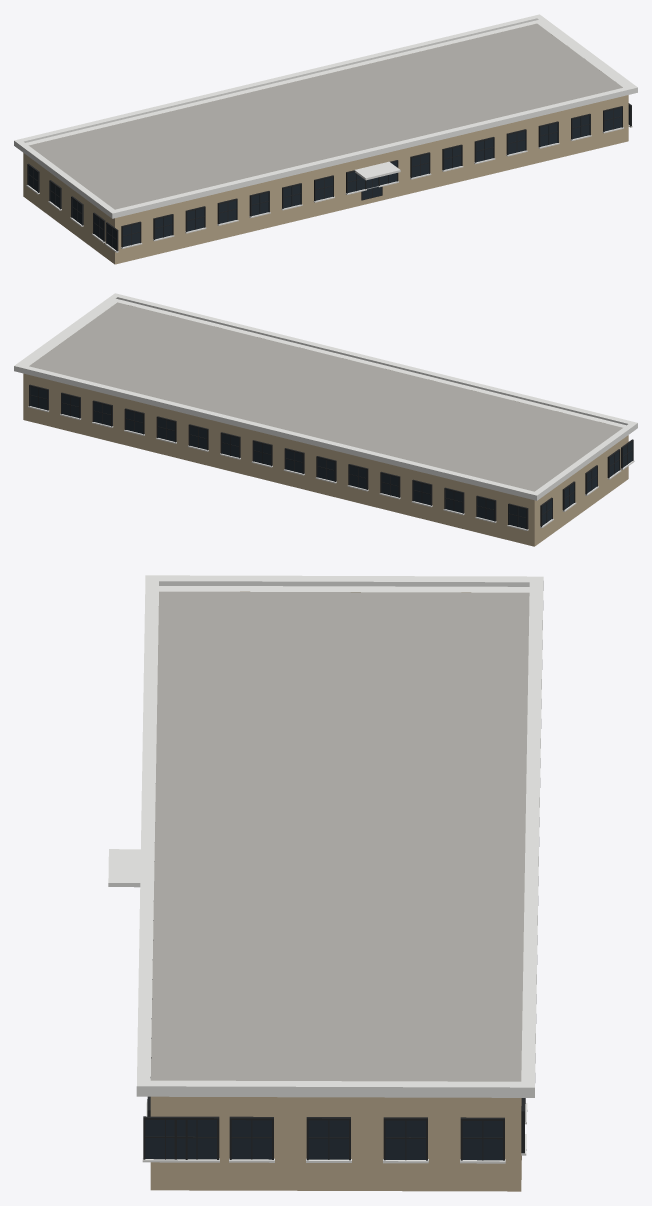
File: modular_lab_2.glb
3 renders of one model, top to bottom at view 1: azimuth 30°, elevation 25°; view 2: azimuth 150°, elevation 25°; view 3: azimuth 270°, elevation 25°, orthographic. The views are drawn at different scales.
Parts seen in each view (by area): view 1: modular_lab_2_Roof_Membrane, modular_lab_2_Wall_tan, modular_lab_2_Trim_White, modular_lab_2_Glass_dark, modular_lab_2_Frame_Dark; view 2: modular_lab_2_Roof_Membrane, modular_lab_2_Wall_tan, modular_lab_2_Trim_White, modular_lab_2_Glass_dark, modular_lab_2_Frame_Dark; view 3: modular_lab_2_Roof_Membrane, modular_lab_2_Trim_White, modular_lab_2_Wall_tan, modular_lab_2_Glass_dark, modular_lab_2_Frame_Dark.
Boxes of the visible parts, box(x1,y1,x2,y2) form: modular_lab_2_Roof_Membrane: box(29, 23, 622, 209); modular_lab_2_Wall_tan: box(23, 95, 628, 264); modular_lab_2_Trim_White: box(14, 14, 637, 252); modular_lab_2_Glass_dark: box(28, 105, 629, 249); modular_lab_2_Frame_Dark: box(27, 103, 631, 251); modular_lab_2_Roof_Membrane: box(29, 302, 622, 491); modular_lab_2_Wall_tan: box(23, 373, 628, 546); modular_lab_2_Trim_White: box(14, 293, 637, 530); modular_lab_2_Glass_dark: box(30, 386, 632, 528); modular_lab_2_Frame_Dark: box(29, 384, 633, 529); modular_lab_2_Roof_Membrane: box(150, 591, 529, 1081); modular_lab_2_Trim_White: box(108, 575, 543, 1163); modular_lab_2_Wall_tan: box(150, 591, 521, 1191); modular_lab_2_Glass_dark: box(145, 1120, 502, 1160); modular_lab_2_Frame_Dark: box(143, 861, 525, 1160).
Size of the model in its own units: 53.02 by 5.3 by 19.04.
